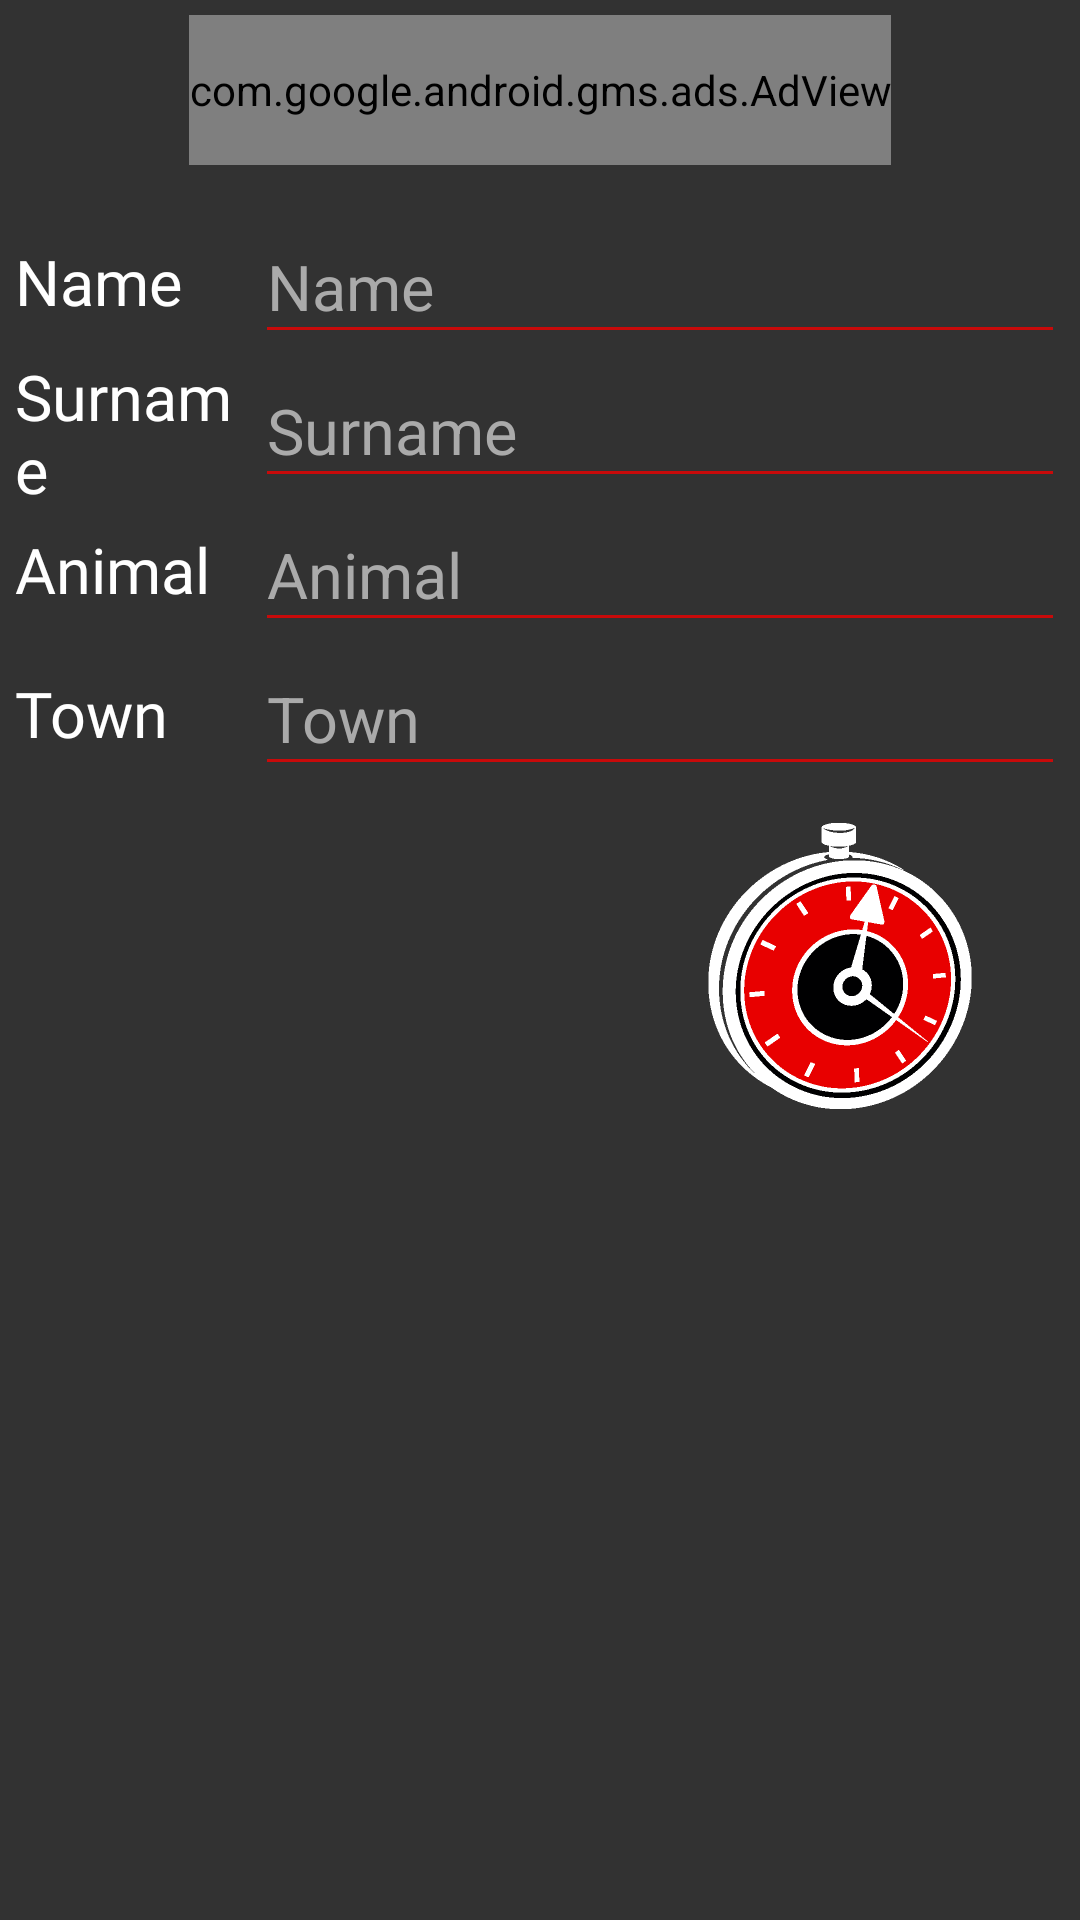

Icons on this 1080 x 1920 Android screen, each with its box as (x1, y1, x2, y2):
stop: (708, 823, 972, 1109)
